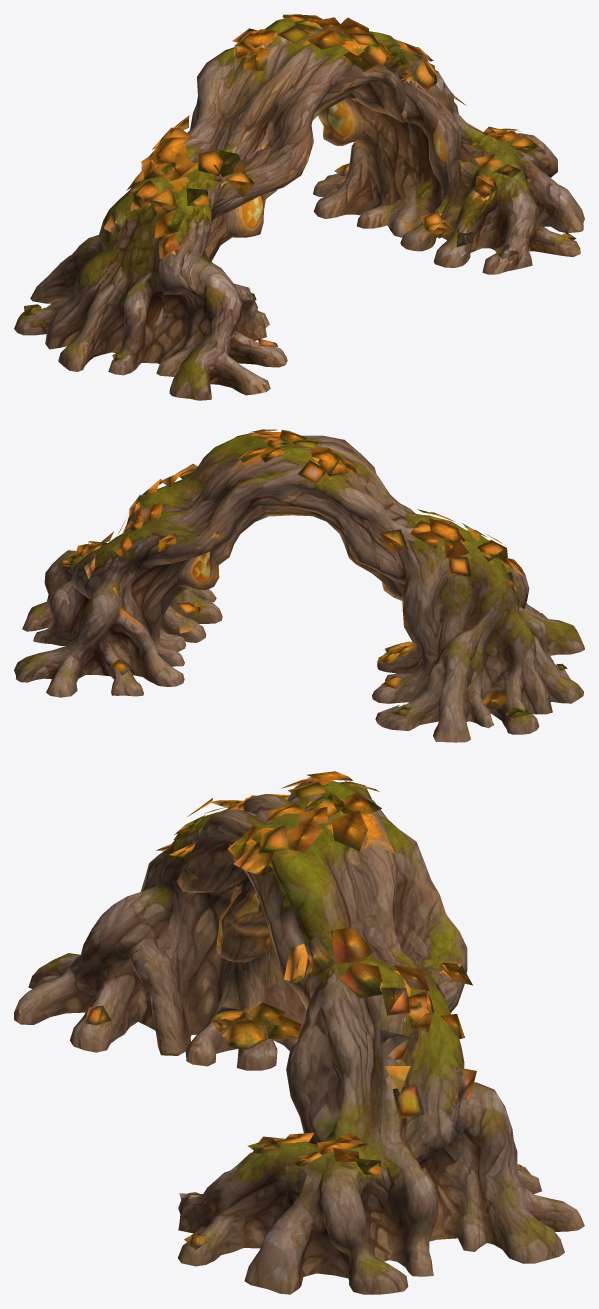
Rendered from kit-rr-root-arch.glb.
3 views of the same model, one above another, from view 1: azimuth 30°, elevation 25°; view 2: azimuth 150°, elevation 25°; view 3: azimuth 270°, elevation 25° (orthographic). The views are drawn at different scales.
Parts seen in each view (by area): view 1: kit-rr-root-arch; view 2: kit-rr-root-arch; view 3: kit-rr-root-arch.
Part boxes in pixels (x1,y1,x2,y2): kit-rr-root-arch: (14,14,584,400); kit-rr-root-arch: (14,429,584,742); kit-rr-root-arch: (14,771,584,1294).
Size of the model in its own units: 20.75 by 9 by 14.24.
1 material, 1 textured.
